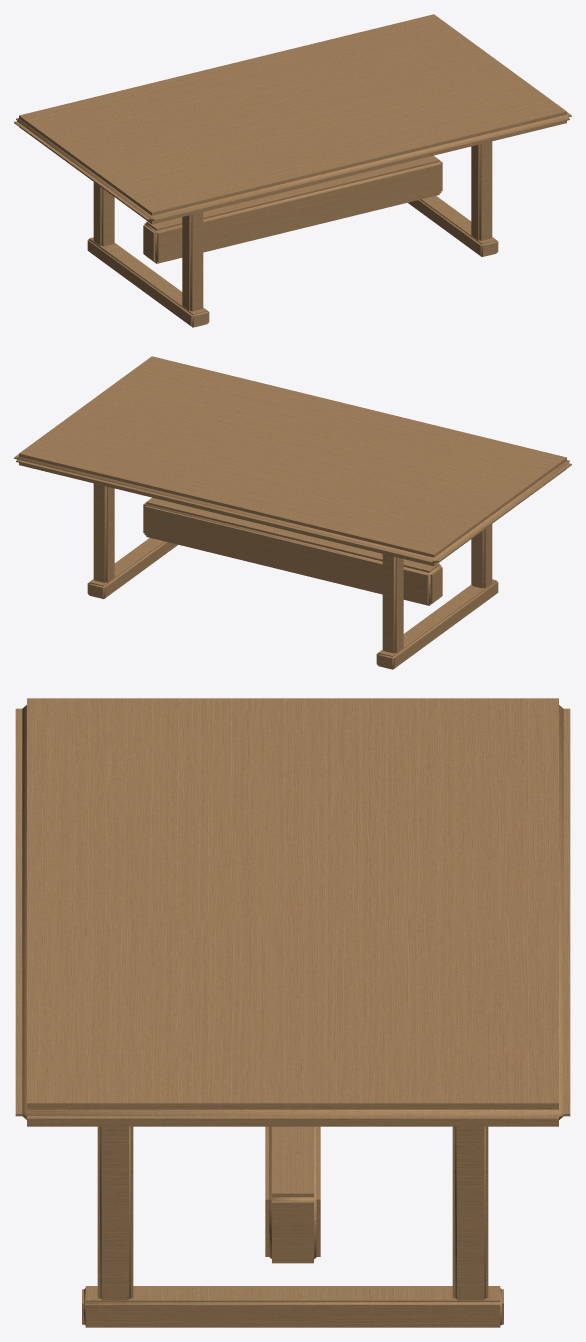
File: country.coffee_table.gltf
The picture shows the model from 3 angles, top to bottom: view 1: azimuth 30°, elevation 25°; view 2: azimuth 150°, elevation 25°; view 3: azimuth 270°, elevation 25°; orthographic projection. The views are drawn at different scales.
Parts seen in each view (by area): view 1: country.coffee_table.rounded-top; view 2: country.coffee_table.rounded-top; view 3: country.coffee_table.rounded-top.
Boxes of the visible parts, box(x1,y1,x2,y2) form: country.coffee_table.rounded-top: box(14, 14, 571, 327); country.coffee_table.rounded-top: box(14, 356, 571, 669); country.coffee_table.rounded-top: box(15, 698, 570, 1327).
Size of the model in its own units: 1.15 by 0.36 by 0.65.
1 material, 1 textured.
